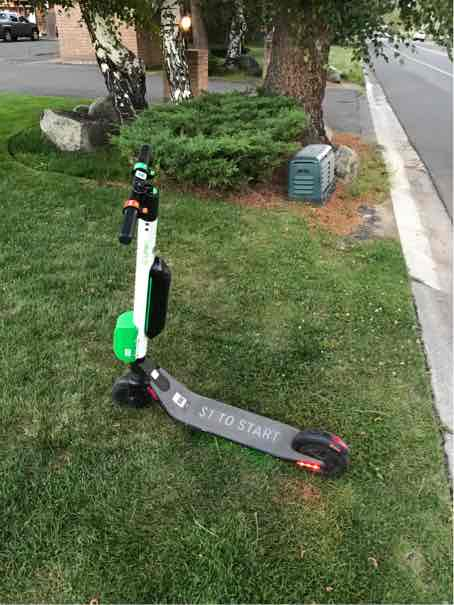scooter: (93, 136, 356, 489)
